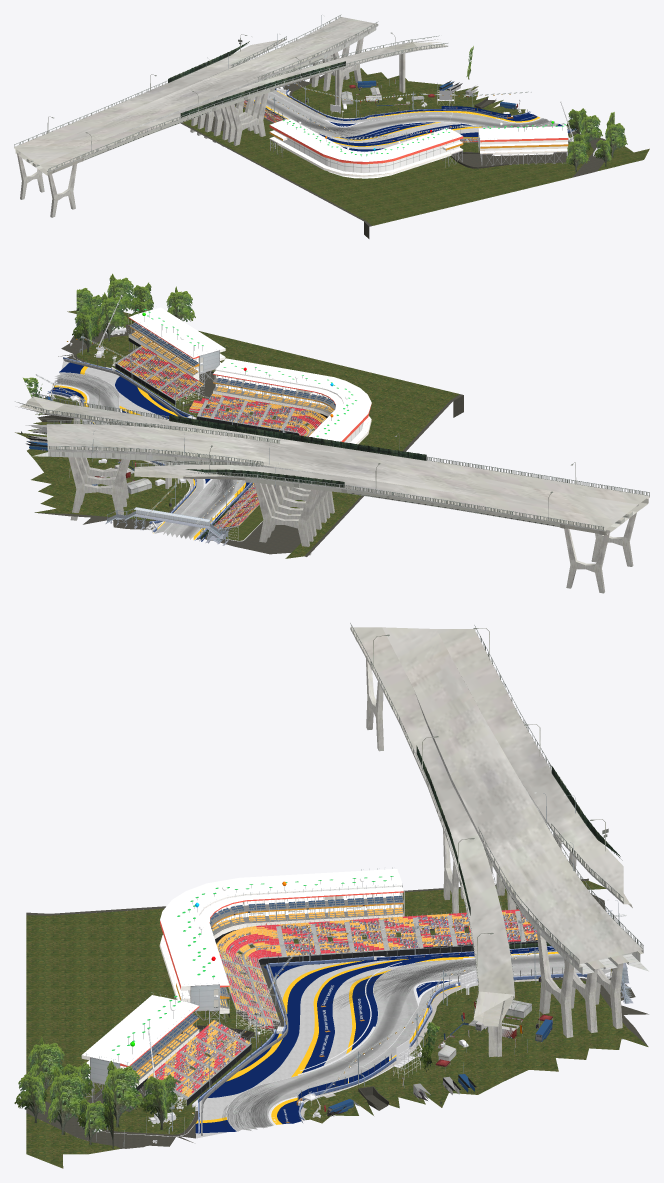
3 renders of one model, top to bottom at view 1: azimuth 30°, elevation 25°; view 2: azimuth 150°, elevation 25°; view 3: azimuth 270°, elevation 25°, orthographic. The views are drawn at different scales.
Parts seen in each view (by area): view 1: m81_t01, m97_t01, m87_t01, m15_t01, m7_t01, m96_t01, m14_t01, m85_t01, m0_t01, m79_t01, m16_t01, m17_t01 (+5 smaller); view 2: m81_t01, m97_t01, m87_t01, m7_t01, m9_t01, m14_t01, m96_t01, m15_t01, m13_t01, m88_t01, m12_t01, m84_t01 (+10 smaller); view 3: m81_t01, m97_t01, m87_t01, m9_t01, m15_t01, m14_t01, m85_t01, m88_t01, m13_t01, m16_t01, m96_t01, m12_t01 (+10 smaller).
Part boxes in pixels (x1=…): m81_t01: x1=14, y1=17, x2=448, y2=217; m97_t01: x1=182, y1=68, x2=649, y2=225; m87_t01: x1=269, y1=119, x2=568, y2=178; m15_t01: x1=254, y1=90, x2=558, y2=137; m7_t01: x1=14, y1=14, x2=447, y2=171; m96_t01: x1=180, y1=74, x2=611, y2=238; m14_t01: x1=466, y1=46, x2=627, y2=171; m85_t01: x1=319, y1=106, x2=572, y2=151; m0_t01: x1=267, y1=87, x2=600, y2=156; m79_t01: x1=298, y1=76, x2=518, y2=109; m16_t01: x1=279, y1=91, x2=576, y2=149; m17_t01: x1=254, y1=91, x2=539, y2=146; m81_t01: x1=18, y1=386, x2=649, y2=593; m97_t01: x1=15, y1=310, x2=459, y2=558; m87_t01: x1=128, y1=307, x2=371, y2=444; m7_t01: x1=15, y1=392, x2=649, y2=530; m9_t01: x1=115, y1=345, x2=326, y2=540; m14_t01: x1=20, y1=273, x2=195, y2=434; m96_t01: x1=35, y1=324, x2=463, y2=556; m15_t01: x1=53, y1=372, x2=245, y2=539; m13_t01: x1=123, y1=348, x2=324, y2=527; m88_t01: x1=115, y1=346, x2=322, y2=534; m12_t01: x1=128, y1=306, x2=335, y2=431; m84_t01: x1=105, y1=507, x2=228, y2=545; m81_t01: x1=350, y1=627, x2=648, y2=1057; m97_t01: x1=26, y1=880, x2=647, y2=1168; m87_t01: x1=81, y1=869, x2=404, y2=1102; m9_t01: x1=147, y1=909, x2=537, y2=1105; m15_t01: x1=189, y1=953, x2=612, y2=1131; m14_t01: x1=14, y1=1022, x2=441, y2=1149; m85_t01: x1=195, y1=946, x2=555, y2=1133; m88_t01: x1=147, y1=911, x2=547, y2=1105; m13_t01: x1=155, y1=912, x2=536, y2=1091; m16_t01: x1=195, y1=960, x2=404, y2=1138; m96_t01: x1=26, y1=878, x2=648, y2=1148; m12_t01: x1=85, y1=867, x2=403, y2=1107.
Bounding box in the file's own units: 400 × 59.6 × 234.
31 materials, 30 textured.
